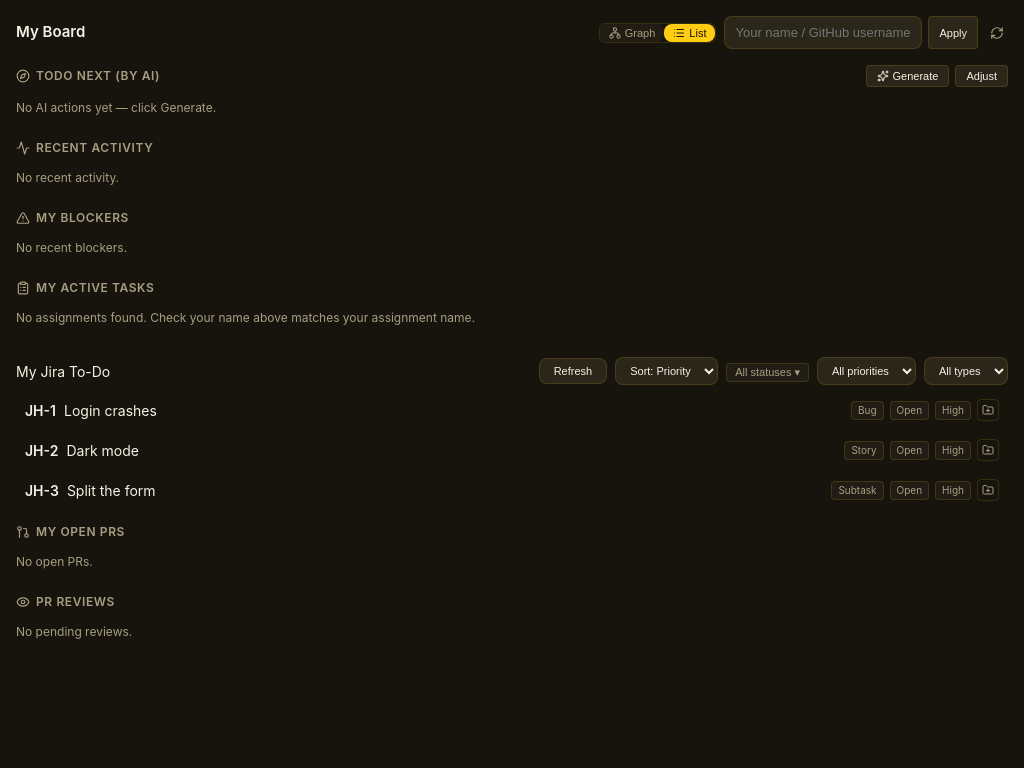
Test: MyBoardPage — issue type › filters by type, listing the types actually present
Expected: the text "Login crashes" is shown, [64, 402, 157, 418]
Select "Bug" in the dropdown named "filter by type" at (966, 371), box [924, 357, 1008, 385]
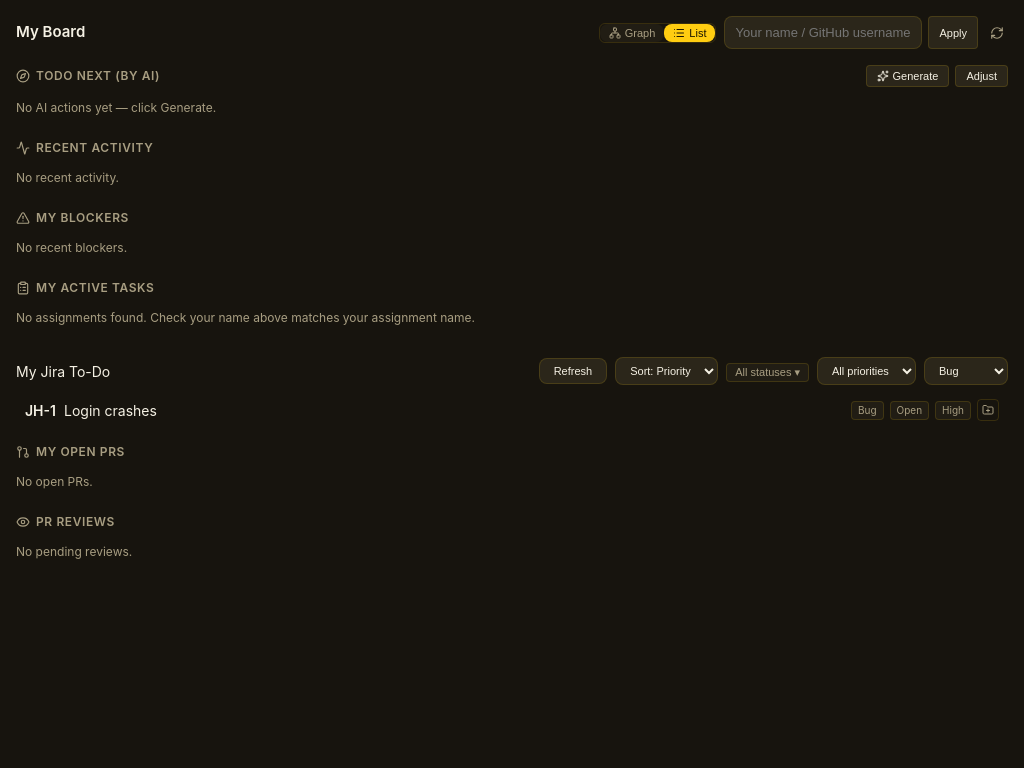
Expected: the text "Login crashes" is shown, [64, 402, 157, 418]
Now the text "Dark mode" is gone
Now the text "Split the form" is gone
